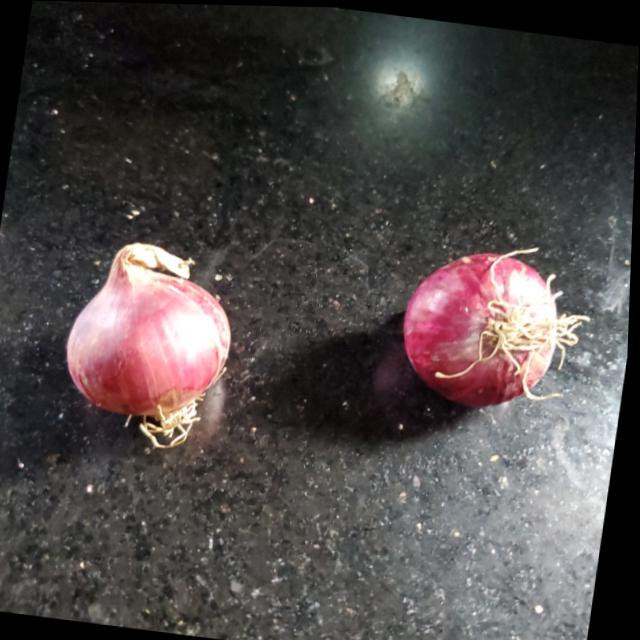onion: (59, 234, 246, 439), (391, 241, 566, 413)
